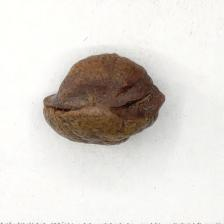NG: (42, 54, 164, 122)
